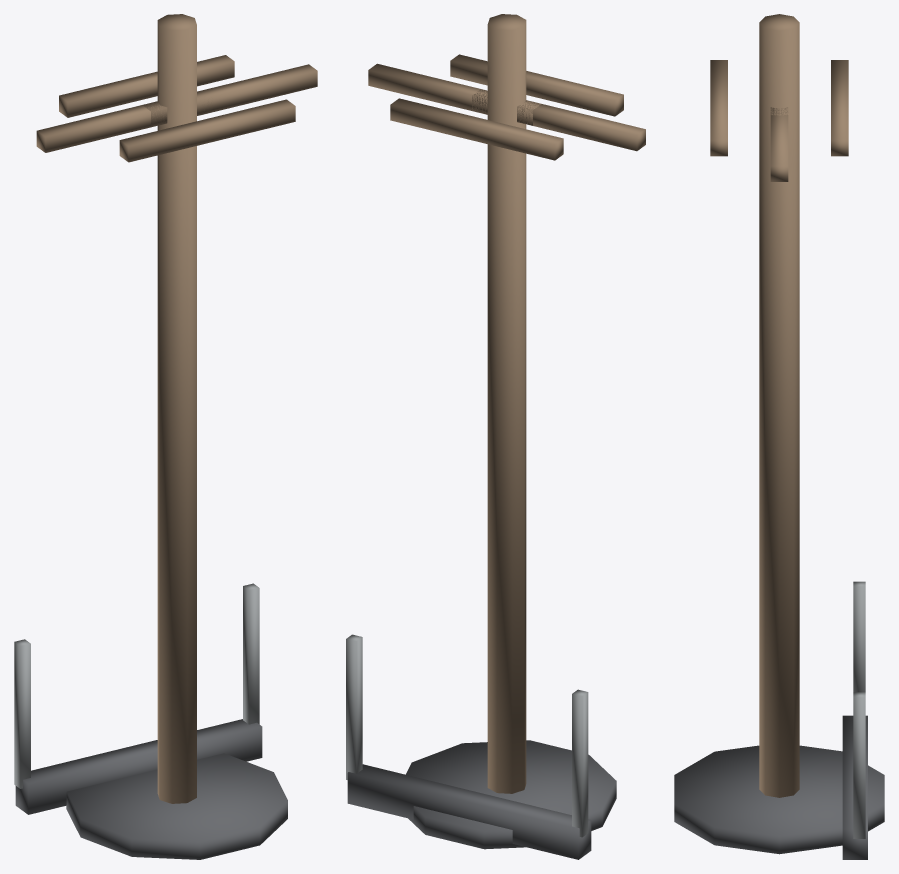
Rendered from coat_rack__reinforced.glb.
The picture shows the model from 3 angles, left to right: view 1: azimuth 30°, elevation 25°; view 2: azimuth 150°, elevation 25°; view 3: azimuth 270°, elevation 25°; orthographic projection.
Visible parts, largest first — view 1: world; view 2: world; view 3: world.
Part boxes in pixels (x1,y1,x2,y2): world: [14, 14, 317, 859]; world: [346, 14, 645, 859]; world: [674, 14, 884, 859].
Size of the model in its own units: 0.6386 by 1.77 by 0.431.
